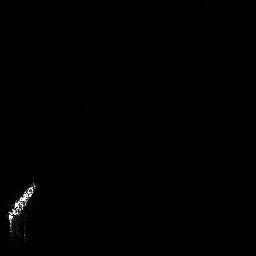ship: (3, 179, 42, 241)
